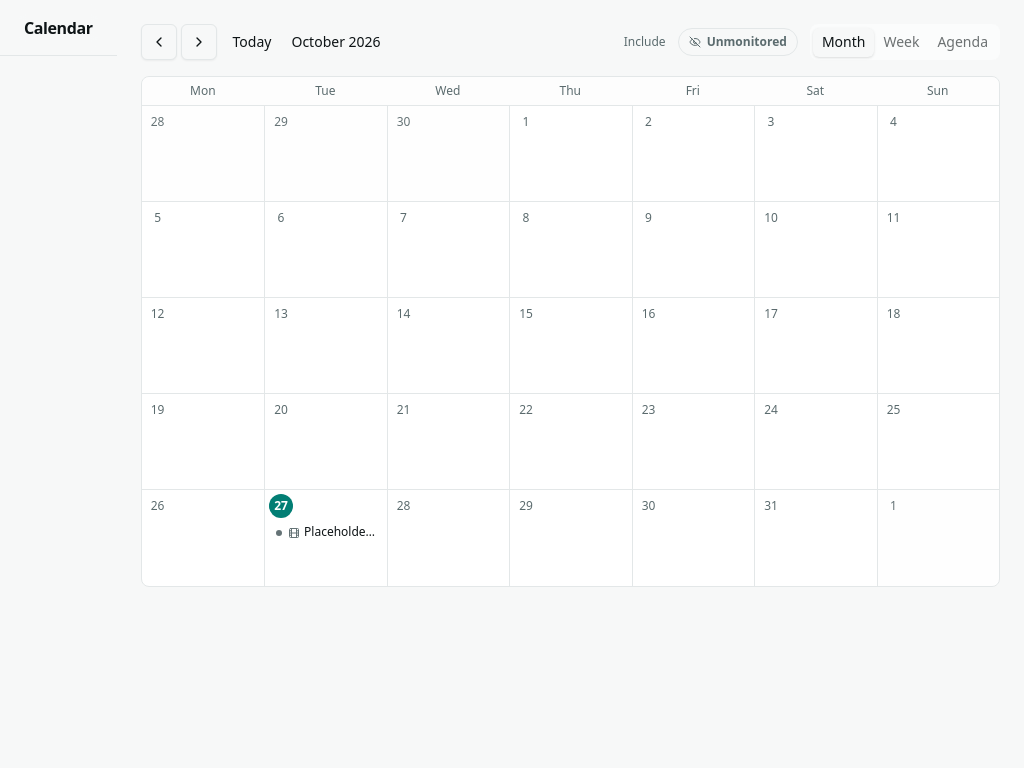
Test: CalendarPage › renders a film as a premiere, not as episode 1, in every view
This screenshot has width=1024, height=768.
What coordinates should you click on to do the following:
click the tab "Week"
I would click on:
 (901, 42)
Its box is [874,28,928,56].
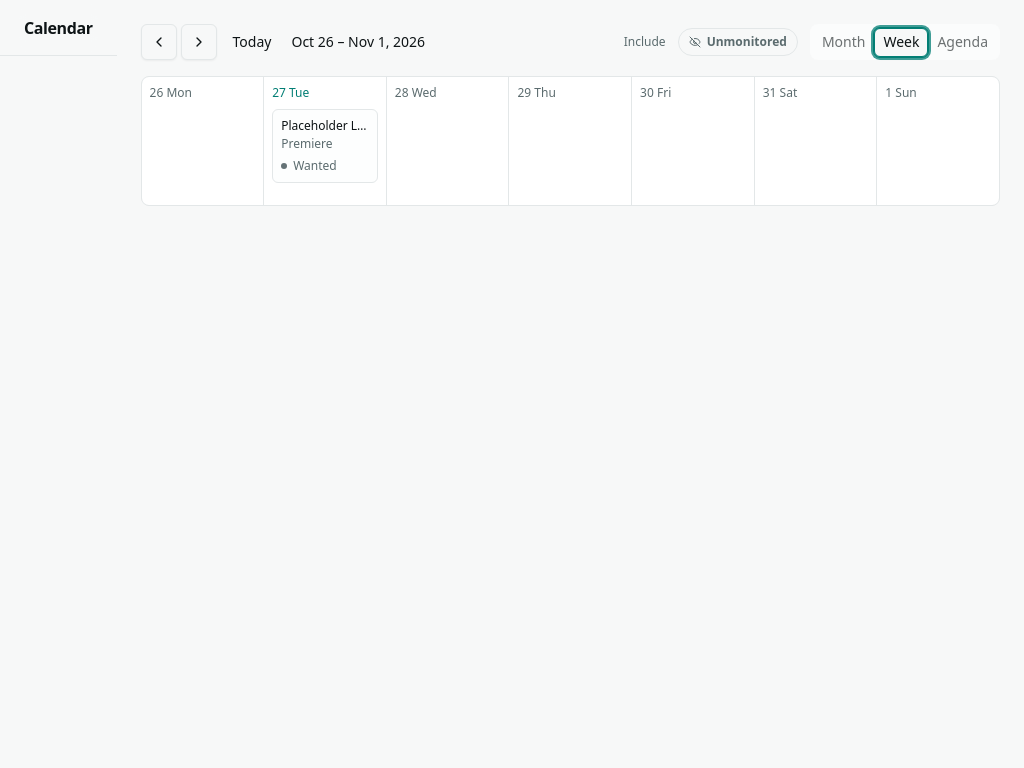
Now the link "Placeholder Legend Premiere Wanted" is shown, box [272,109,378,183]
What coordinates should you click on to do the following:
click the tab "Agenda"
I would click on:
 (963, 42)
Its box is [928,28,997,56].
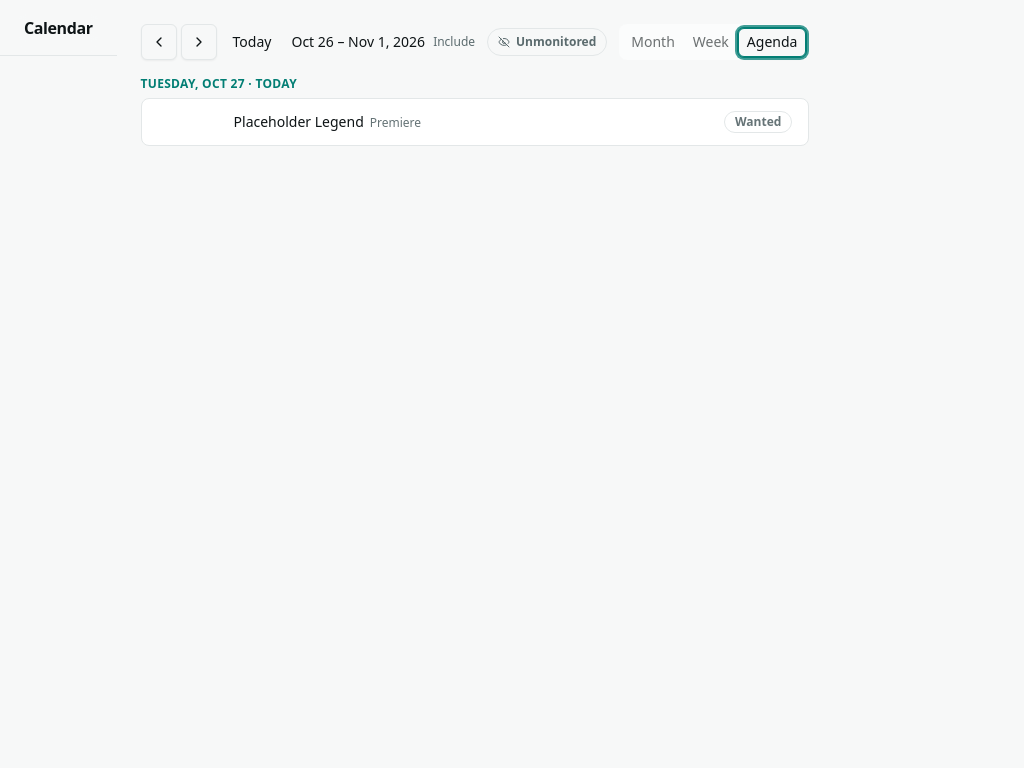
Now the link "Placeholder Legend" shows "Premiere", box [234,111,792,133]
